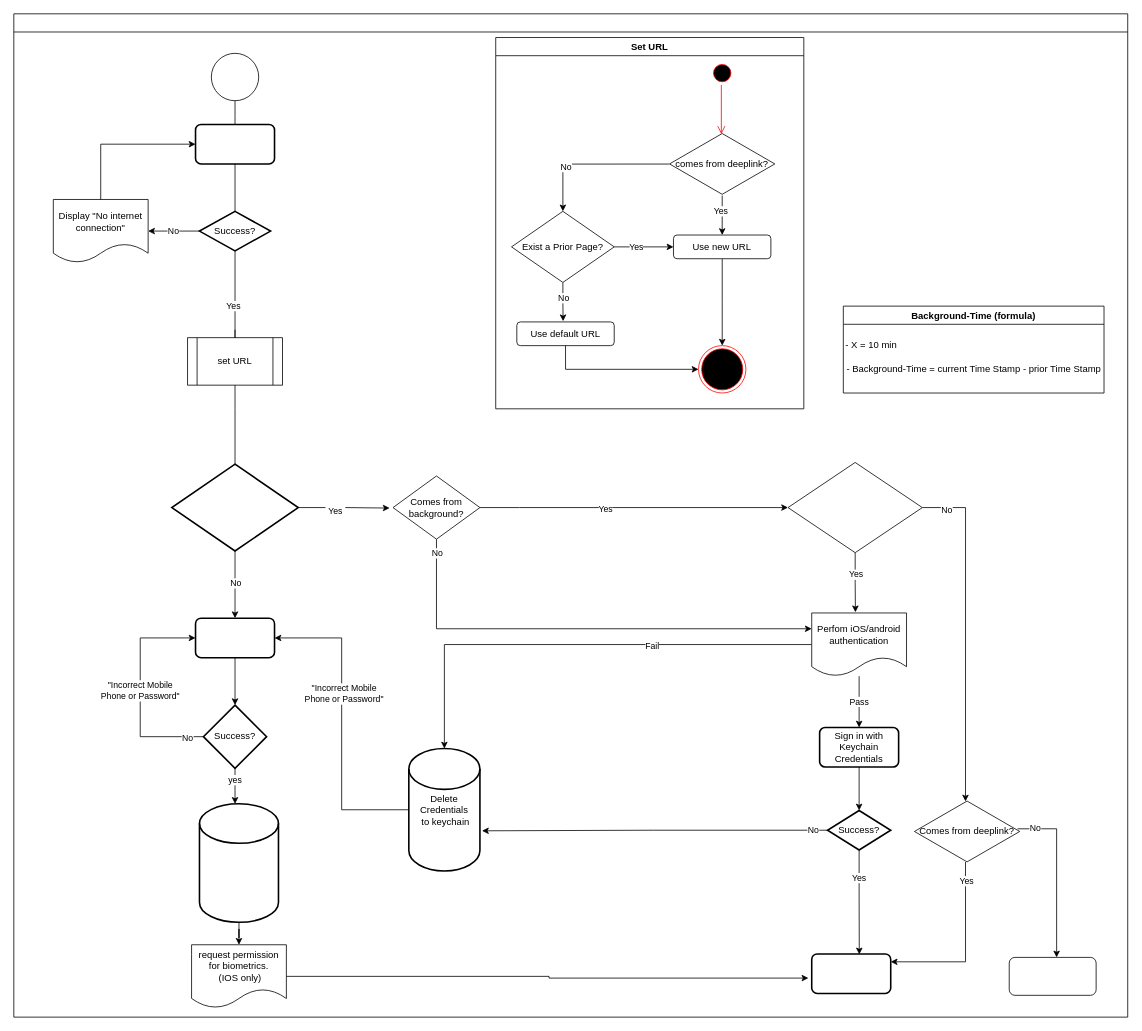
The diagram is 1142 pixels wide and 1031 high, and some of its shapes have lost their labels. The centre of each missing label's shape, as x and y in pixels:
Background-Time >= X: the point at 854,507
Check internet connection: the point at 234,143
Credentials saved in Keychain/Keystore?: the point at 235,507
Keep current Page: the point at 1052,976
Load Page: the point at 851,973
Open App: the point at 235,77
Save Credentials to keychain: the point at 238,863
Sign in Form: the point at 234,637
